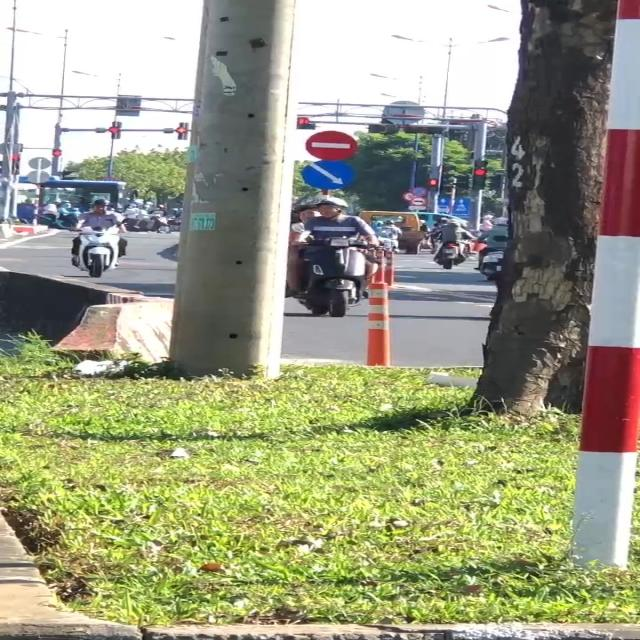Bien bao cam di nguoc chieu: (304, 128, 360, 159)
Bien bao huong phai di vong chuong ngai vat: (300, 159, 366, 193)
